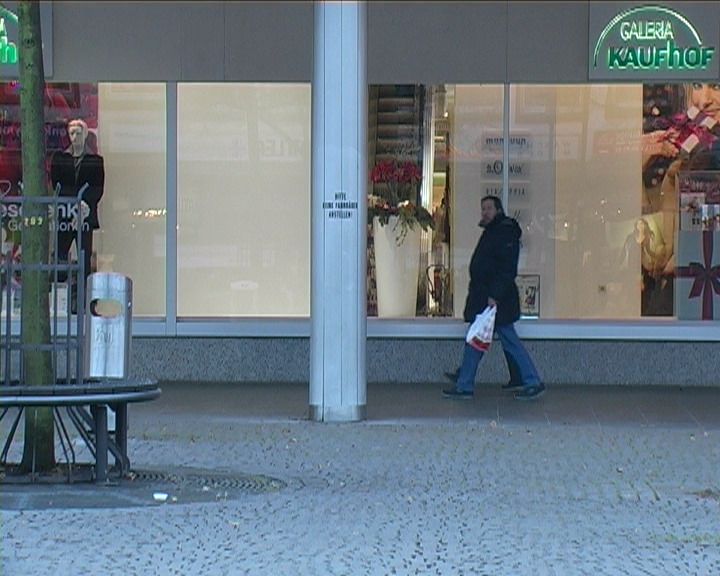deflection: (466, 193, 526, 280)
